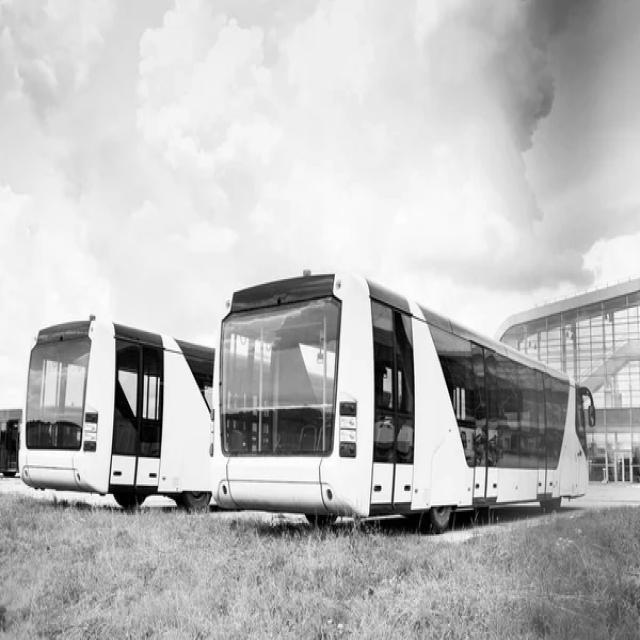Bus: (212, 273, 598, 532), (17, 317, 221, 503)
